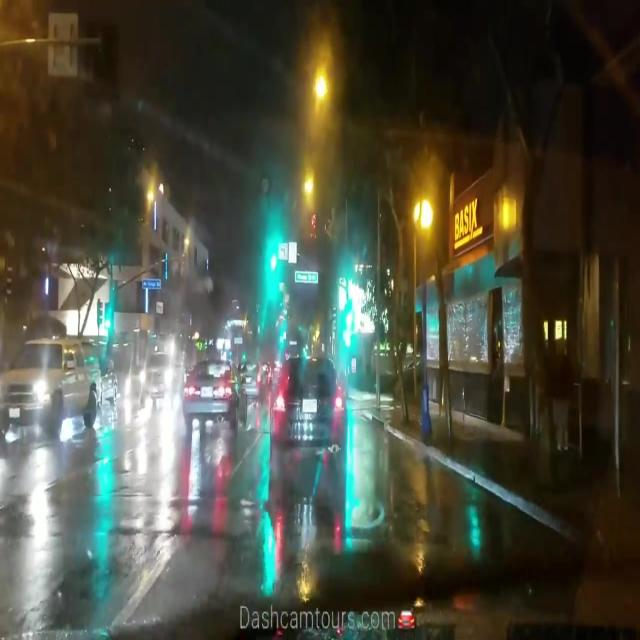Car: (0, 336, 102, 435), (265, 362, 348, 459), (179, 355, 246, 430), (140, 349, 175, 400)
